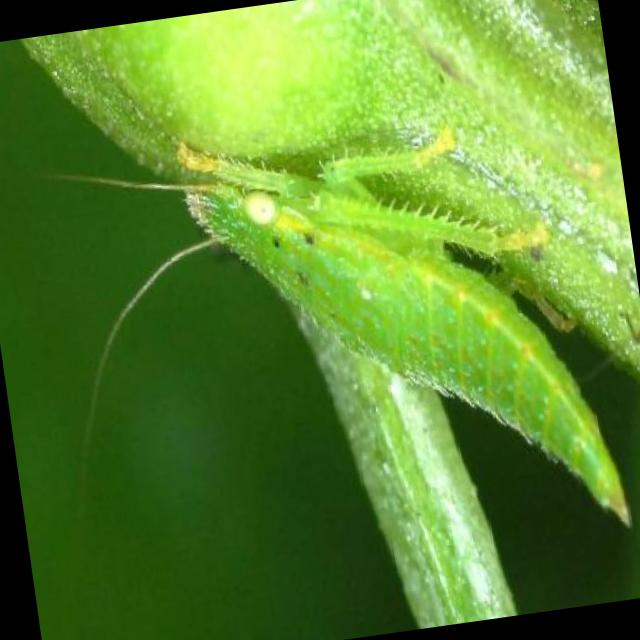green-leafhopper: (59, 115, 634, 519)
